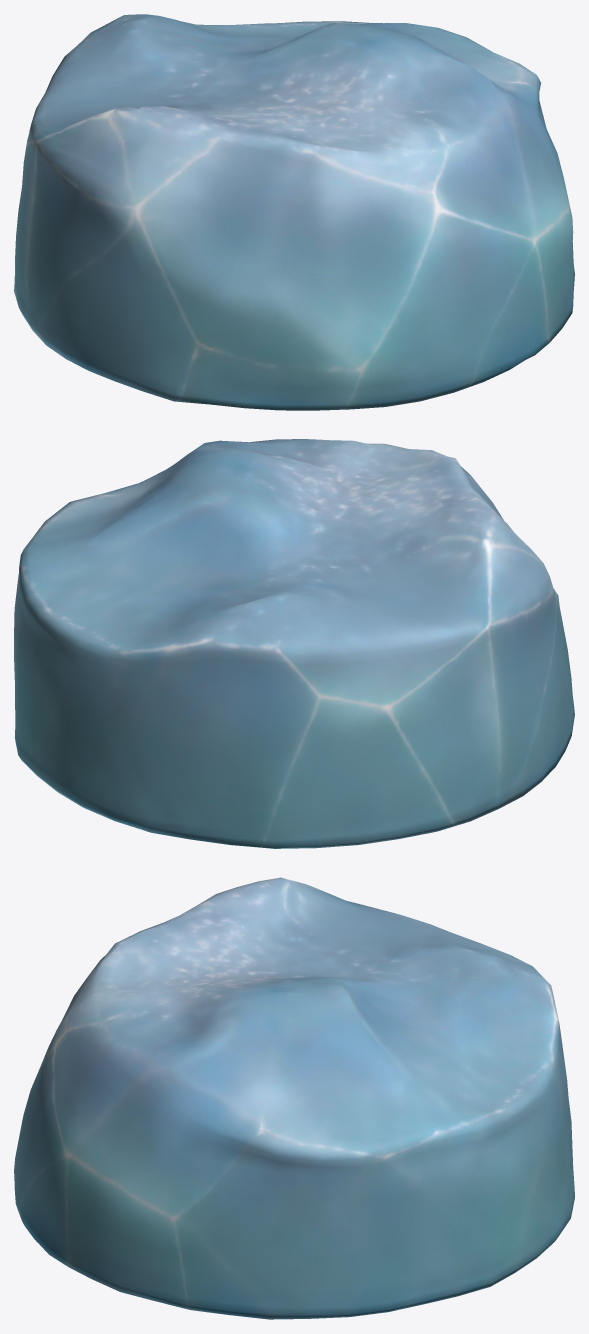
File: iceberg.glb
3 renders of one model, top to bottom at view 1: azimuth 30°, elevation 25°; view 2: azimuth 150°, elevation 25°; view 3: azimuth 270°, elevation 25°, orthographic.
Visible parts, largest first — view 1: mesh; view 2: mesh; view 3: mesh.
Boxes of the visible parts, <box> form: mesh: <box>14,14,574,410</box>; mesh: <box>14,439,574,848</box>; mesh: <box>14,877,574,1319</box>.
Size of the model in its own units: 0.9885 by 0.4794 by 0.9959.
Materials: 1 (1 with a texture image).
